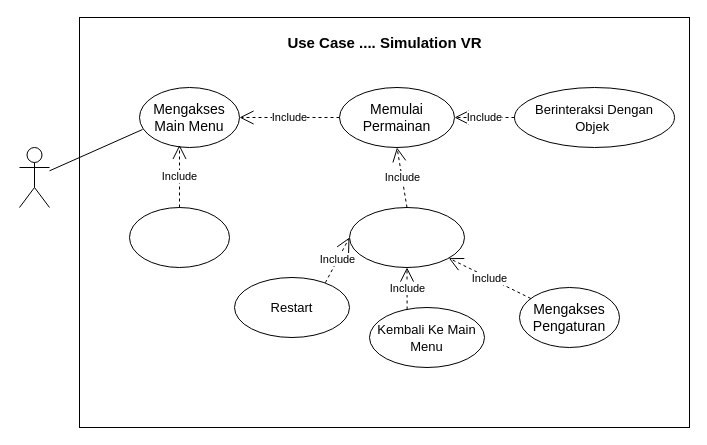
Image size: 707x445. Some labels were removed from this diagram. Here are the shapes that lost their labels. From the top down, the box of each, then its label:
(18, 146, 50, 208): Player
(128, 206, 230, 268): Keluar Permainan
(348, 206, 464, 268): Mengakses Menu Pause
